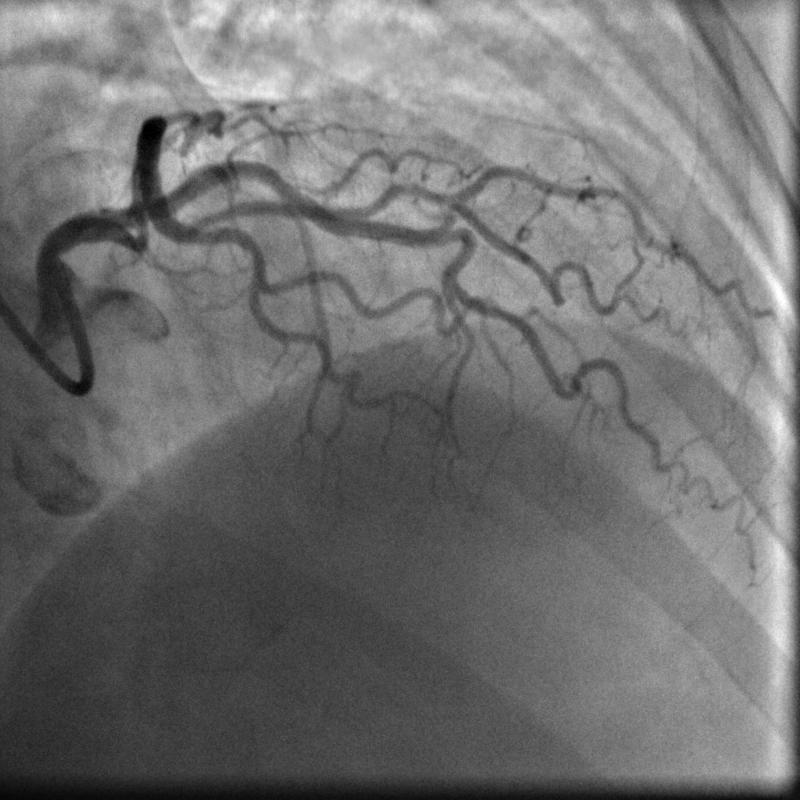Stenosis: (123, 200, 155, 251)
